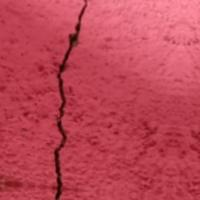crack: (39, 0, 97, 199)
